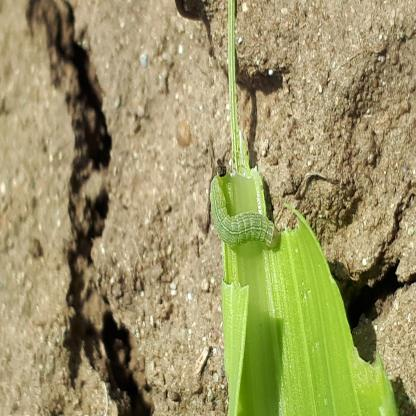armyworm: (95, 371, 136, 416)
